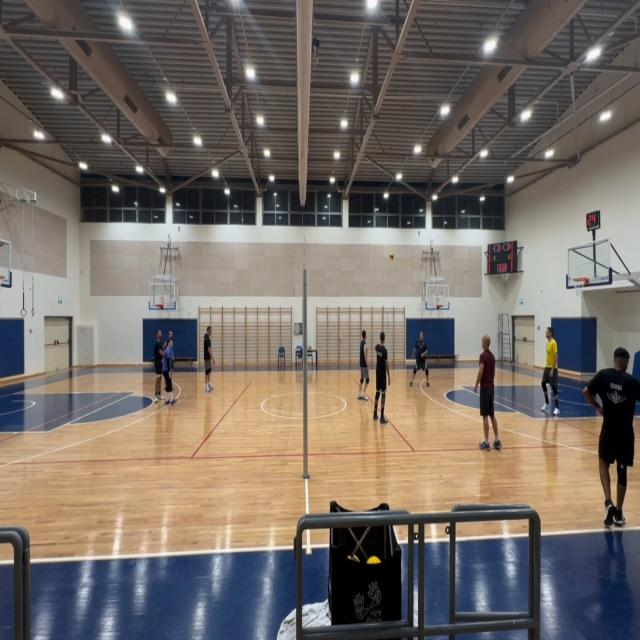volleyball: (389, 252, 394, 260)
